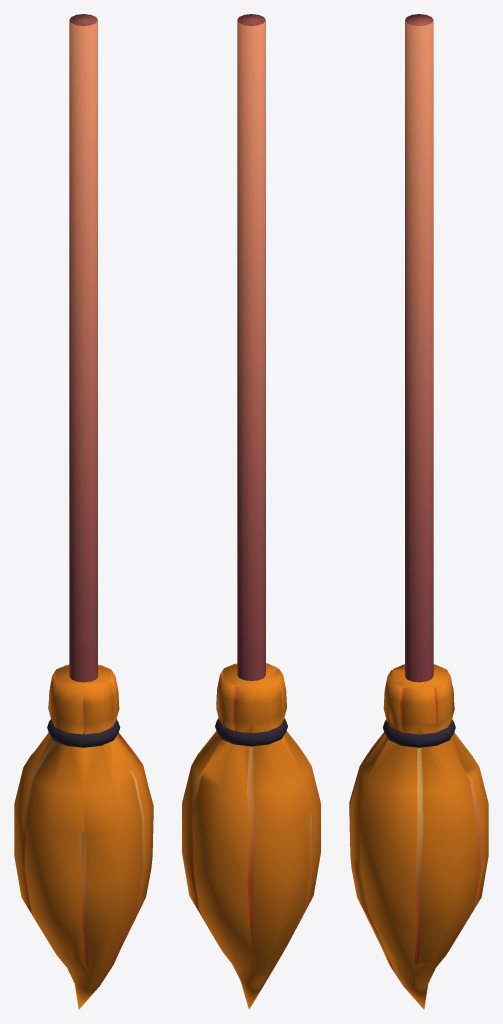
File: Broom Stick.FBX
3 views of the same model, side by side, from view 1: azimuth 90°, elevation 25°; view 2: azimuth 150°, elevation 25°; view 3: azimuth 270°, elevation 25° (orthographic).
Visible parts, largest first — view 1: Broom Stick; view 2: Broom Stick; view 3: Broom Stick.
Part boxes in pixels (<box>): Broom Stick: <box>14,14,153,1009</box>; Broom Stick: <box>182,14,320,1009</box>; Broom Stick: <box>349,14,488,1009</box>.
Size of the model in its own units: 6.66 by 52.69 by 6.74.
